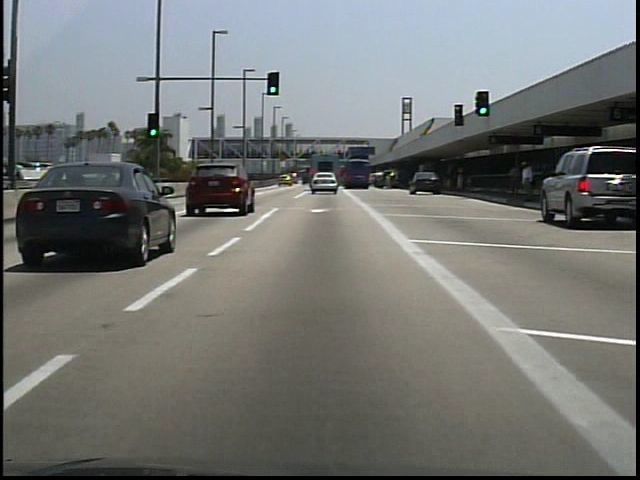person: (516, 157, 536, 205)
